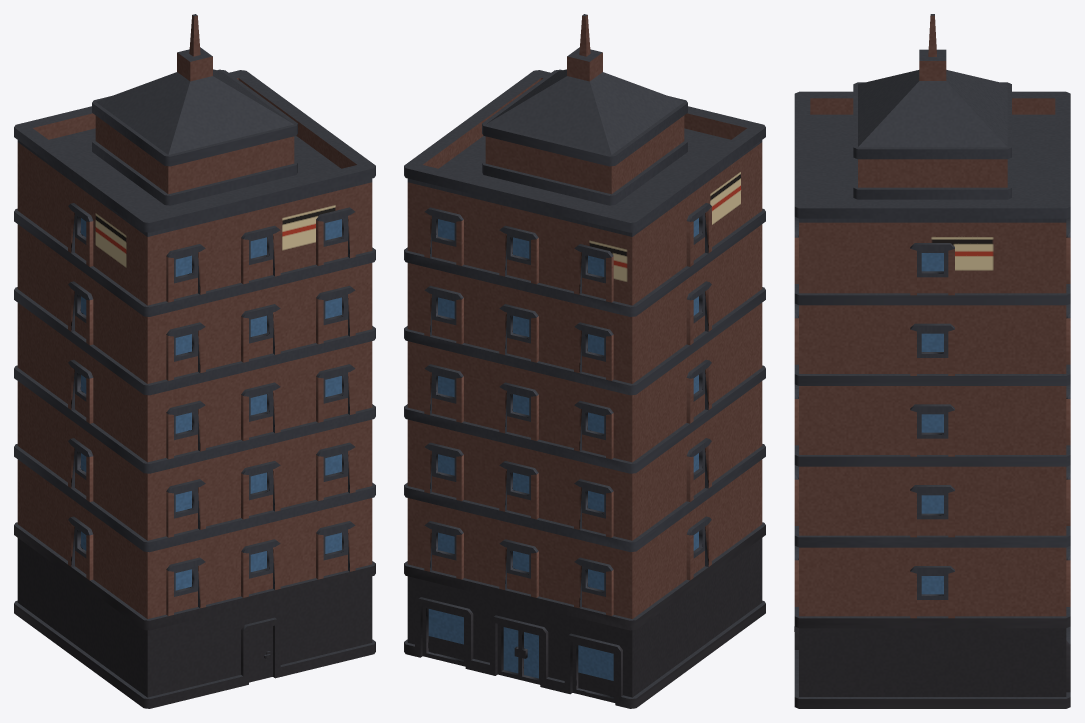
File: building-m-brown.glb
3 renders of one model, left to right at view 1: azimuth 30°, elevation 25°; view 2: azimuth 150°, elevation 25°; view 3: azimuth 270°, elevation 25°, orthographic. The views are drawn at different scales.
Visible parts, largest first — view 1: building-m-brown; view 2: building-m-brown; view 3: building-m-brown.
Boxes of the visible parts, left/top/right/bottom form: building-m-brown: left=14, top=14, right=375, bottom=708; building-m-brown: left=404, top=14, right=765, bottom=708; building-m-brown: left=794, top=14, right=1070, bottom=708.
Bounding box in the file's own units: 1.24 × 3.15 × 1.24.
Materials: 1 (1 with a texture image).
